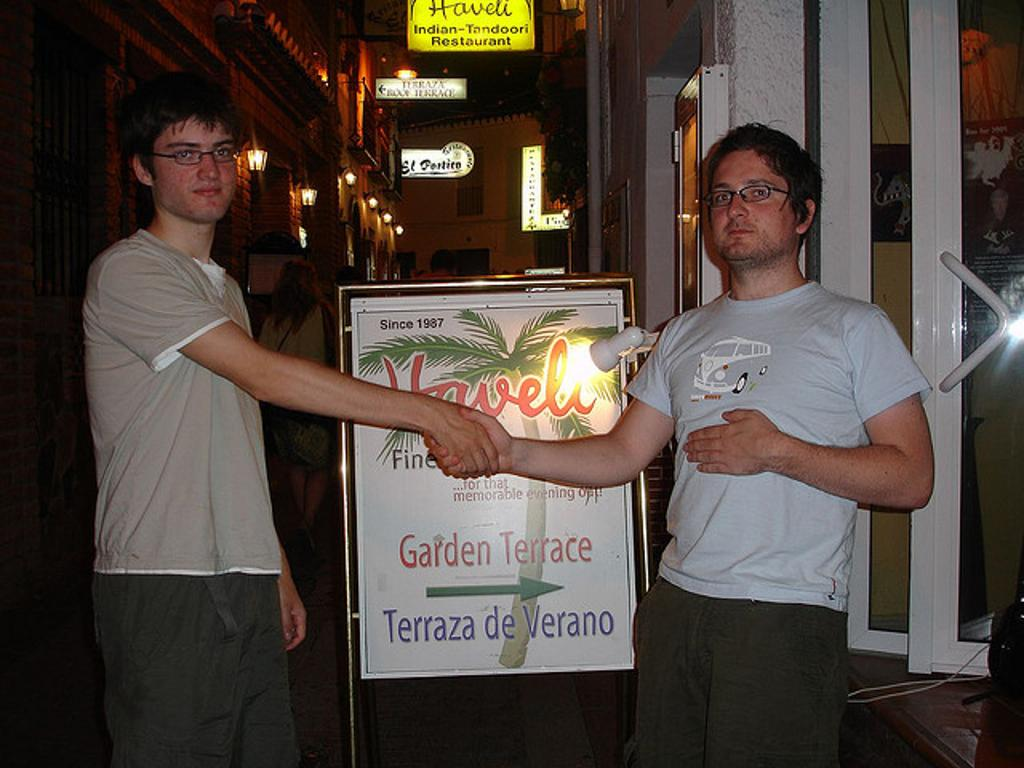face: (706, 152, 788, 262), (156, 118, 242, 220)
